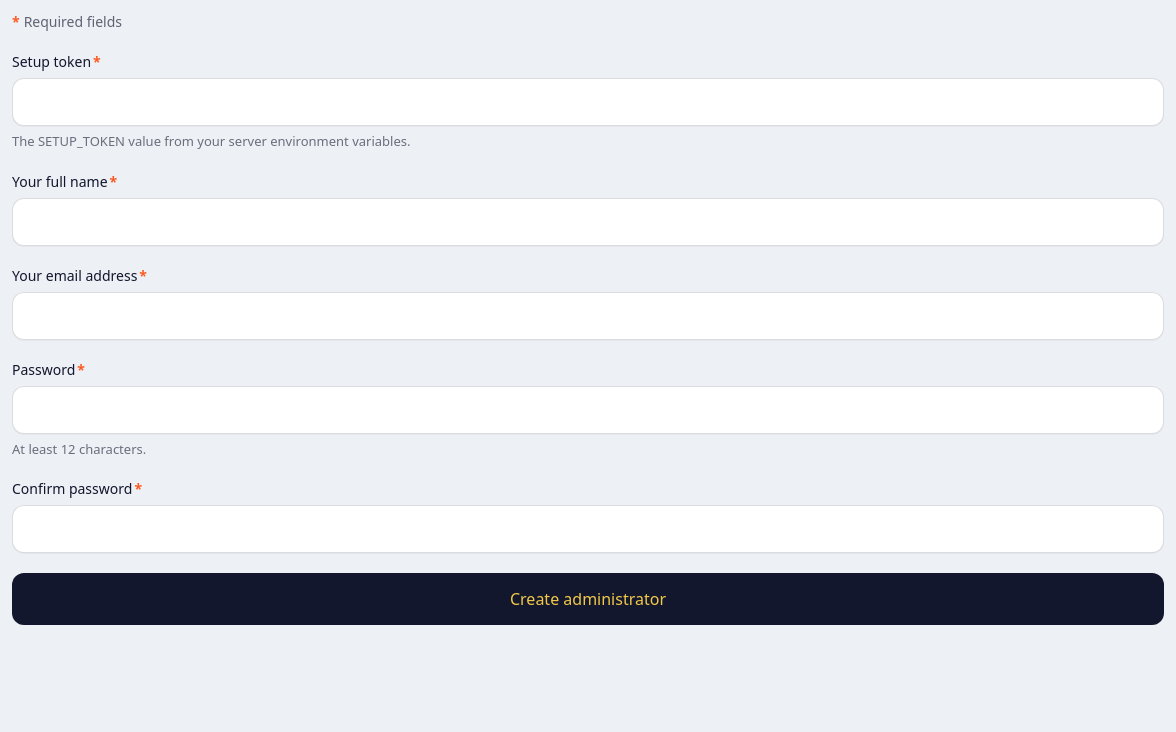
Test case: /setup Administrator form › blocks an empty submission with inline errors and focuses the first invalid field
The image size is (1176, 732).
Click the button "Create administrator" at (588, 599), box [12,573,1164,625]
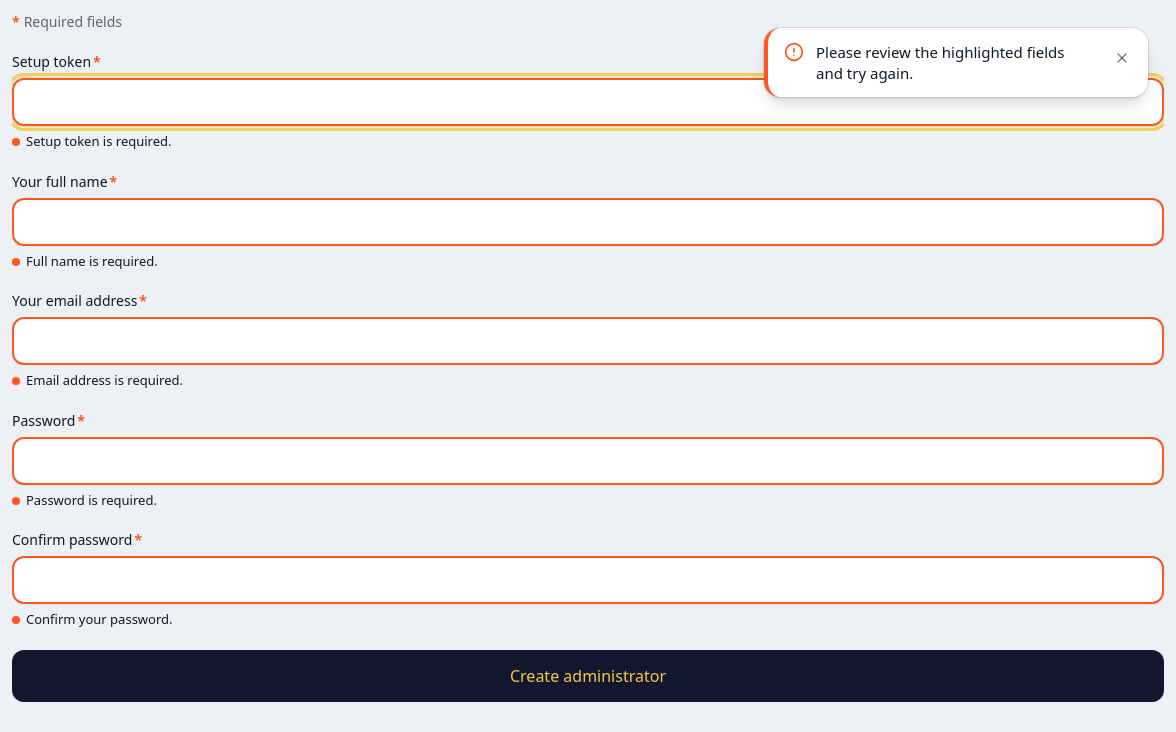
Expected: the text "Setup token is required." is shown, [12,132,172,150]
Expected: the text "Full name is required." is shown, [12,252,158,270]
Expected: the text "Email address is required." is shown, [12,371,183,389]
